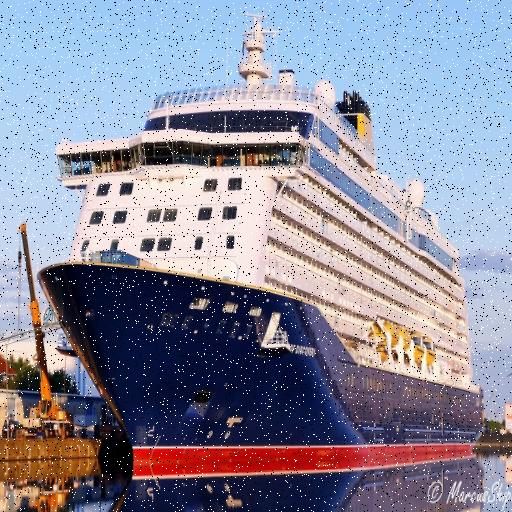cruises: (43, 21, 497, 478)
